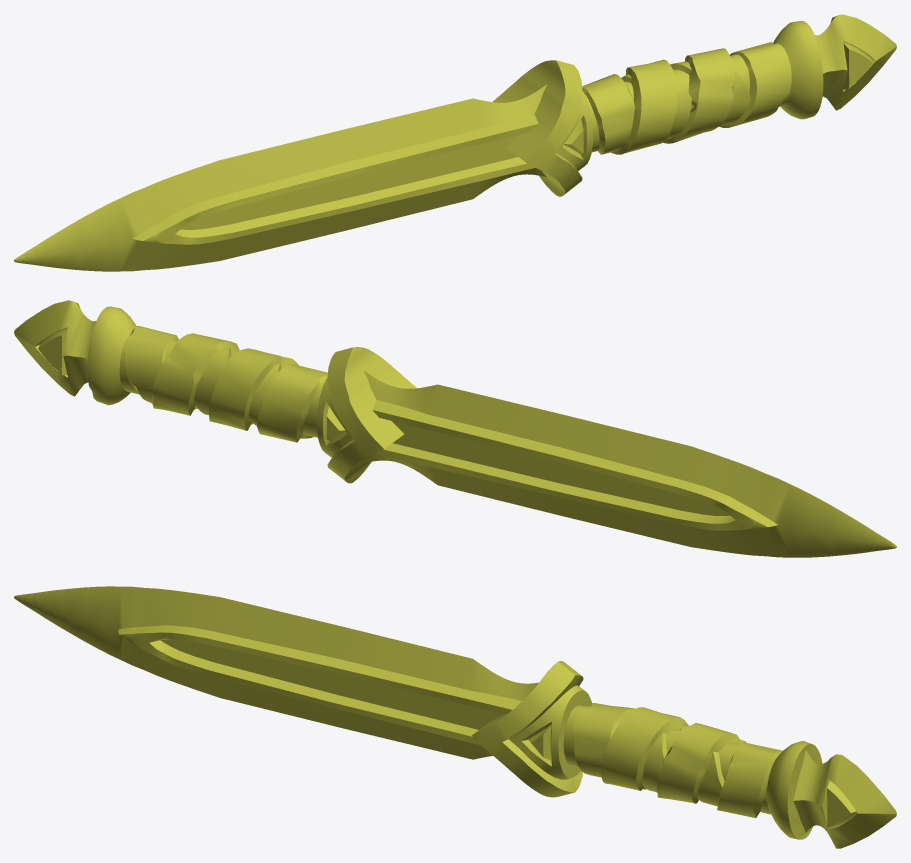
File: SM_Rune_Dagger_3.obj
3 views of the same model, one above another, from view 1: azimuth 30°, elevation 25°; view 2: azimuth 150°, elevation 25°; view 3: azimuth 330°, elevation 25° (orthographic).
Parts seen in each view (by area): view 1: SM_Rune_Dagger_3; view 2: SM_Rune_Dagger_3; view 3: SM_Rune_Dagger_3.
Boxes of the visible parts, x1,y1,x2,y2 form: SM_Rune_Dagger_3: (14, 14, 896, 271); SM_Rune_Dagger_3: (14, 300, 896, 557); SM_Rune_Dagger_3: (14, 586, 896, 848).
Size of the model in its own units: 648 by 94.84 by 70.48.
